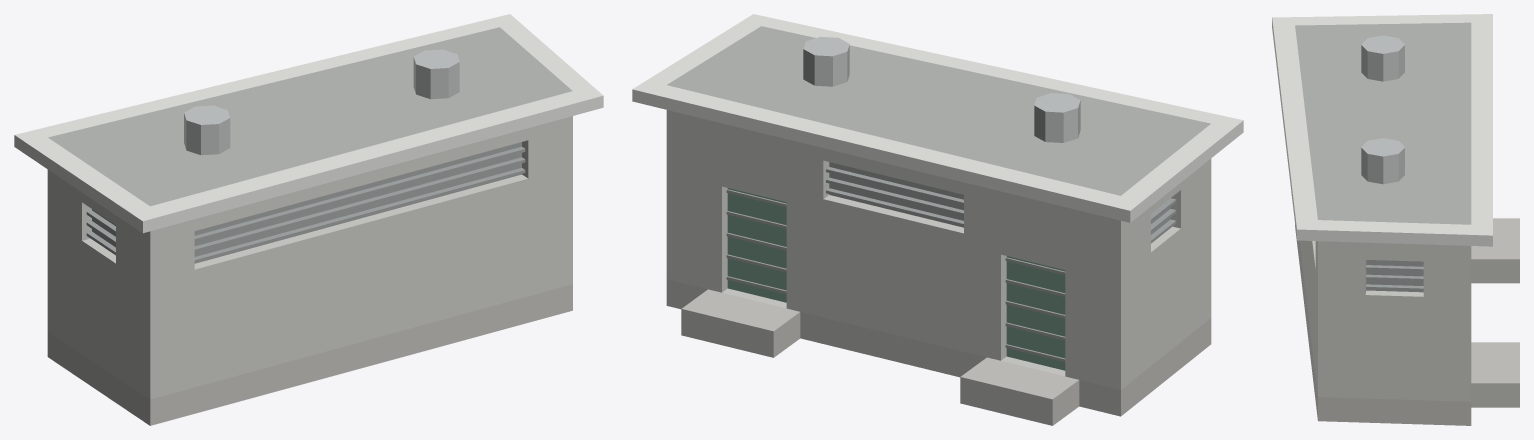
3 views of the same model, side by side, from view 1: azimuth 30°, elevation 25°; view 2: azimuth 150°, elevation 25°; view 3: azimuth 270°, elevation 25° (orthographic). The views are drawn at different scales.
Visible parts, largest first — view 1: D9A grey concrete block, D9A grey roof, D9A white eave slab, D9A concrete steps, D9A grey louvers, D9A roof fan grey; view 2: D9A grey concrete block, D9A grey roof, D9A white eave slab, D9A concrete steps, D9A green steel doors, D9A grey louvers, D9A roof fan grey; view 3: D9A grey roof, D9A grey concrete block, D9A white eave slab, D9A concrete steps, D9A roof fan grey, D9A grey louvers.
Boxes of the visible parts, left/top/right/bottom form: D9A grey concrete block: left=47, top=116, right=572, bottom=399; D9A grey roof: left=48, top=27, right=572, bottom=206; D9A white eave slab: left=14, top=14, right=603, bottom=233; D9A concrete steps: left=47, top=284, right=572, bottom=425; D9A grey louvers: left=86, top=142, right=525, bottom=263; D9A roof fan grey: left=184, top=49, right=459, bottom=155; D9A grey concrete block: left=666, top=110, right=1211, bottom=389; D9A grey roof: left=667, top=26, right=1210, bottom=195; D9A white eave slab: left=632, top=14, right=1243, bottom=222; D9A concrete steps: left=666, top=279, right=1211, bottom=425; D9A green steel doors: left=727, top=188, right=1065, bottom=370; D9A grey louvers: left=726, top=162, right=1176, bottom=362; D9A roof fan grey: left=803, top=36, right=1080, bottom=142; D9A grey roof: left=1295, top=22, right=1471, bottom=224; D9A grey concrete block: left=1299, top=240, right=1471, bottom=401; D9A white eave slab: left=1272, top=14, right=1492, bottom=246; D9A concrete steps: left=1295, top=218, right=1519, bottom=425; D9A roof fan grey: left=1361, top=35, right=1404, bottom=184; D9A grey louvers: left=1366, top=260, right=1423, bottom=292.
Bounding box in the file's own units: 10.8 × 5.2 × 5.1.
